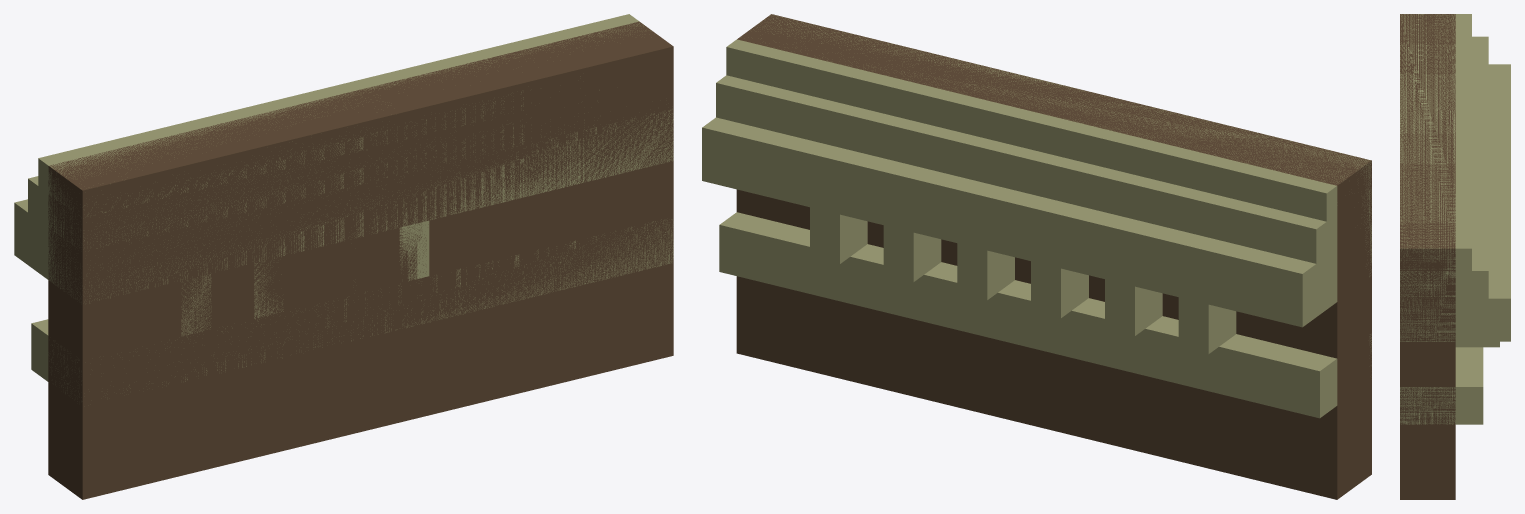
File: gn_cornice_2m.glb
3 views of the same model, side by side, from view 1: azimuth 30°, elevation 25°; view 2: azimuth 150°, elevation 25°; view 3: azimuth 270°, elevation 25° (orthographic). The views are drawn at different scales.
Parts seen in each view (by area): view 1: GnCornice; view 2: GnCornice; view 3: GnCornice.
Boxes of the visible parts, x1,y1,x2,y2 form: GnCornice: [14, 14, 673, 499]; GnCornice: [702, 14, 1371, 499]; GnCornice: [1400, 14, 1510, 499].
Bounding box in the file's own units: 2 × 1 × 0.4.
